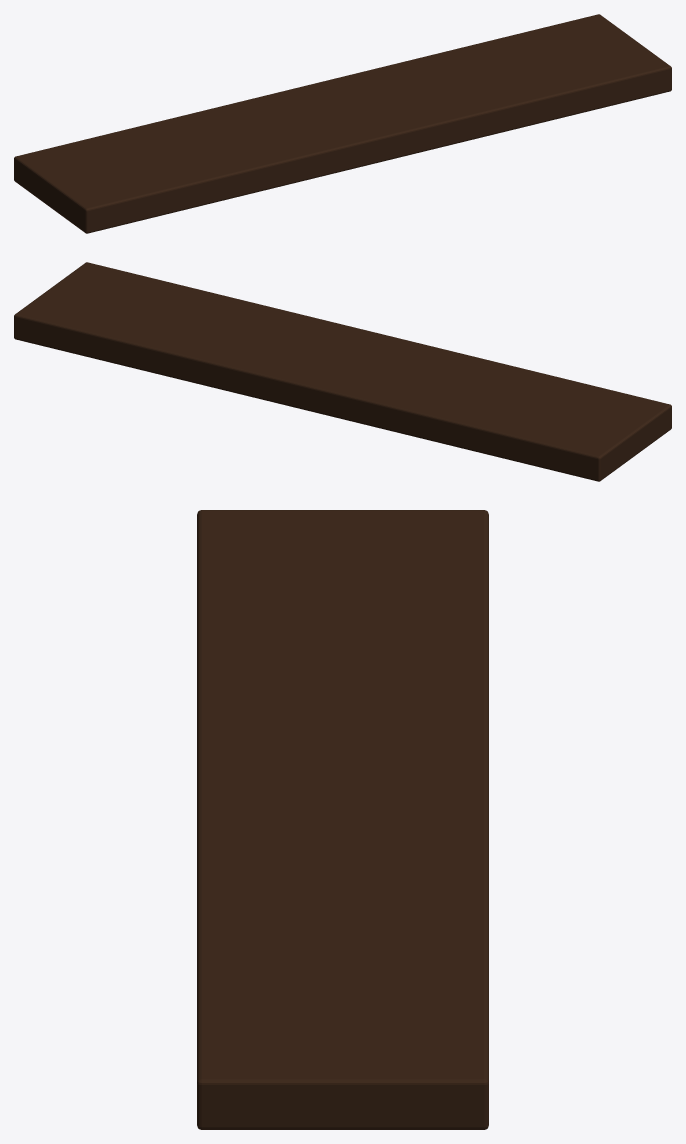
File: shelf.glb
3 renders of one model, top to bottom at view 1: azimuth 30°, elevation 25°; view 2: azimuth 150°, elevation 25°; view 3: azimuth 270°, elevation 25°, orthographic. The views are drawn at different scales.
Parts seen in each view (by area): view 1: shelf_board; view 2: shelf_board; view 3: shelf_board.
Boxes of the visible parts, x1,y1,x2,y2 form: shelf_board: (14,14,671,233); shelf_board: (14,262,671,481); shelf_board: (197,510,488,1129).
Bounding box in the file's own units: 0.929 × 0.042 × 0.2.
